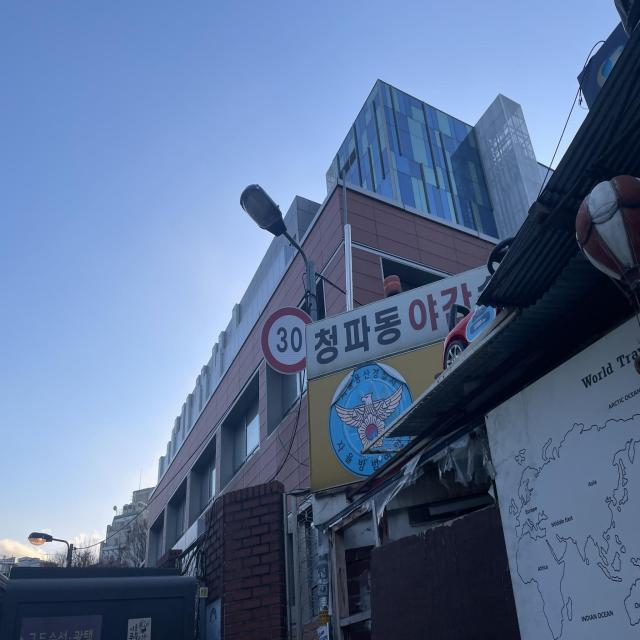speed_limit_30: (262, 309, 311, 370)
